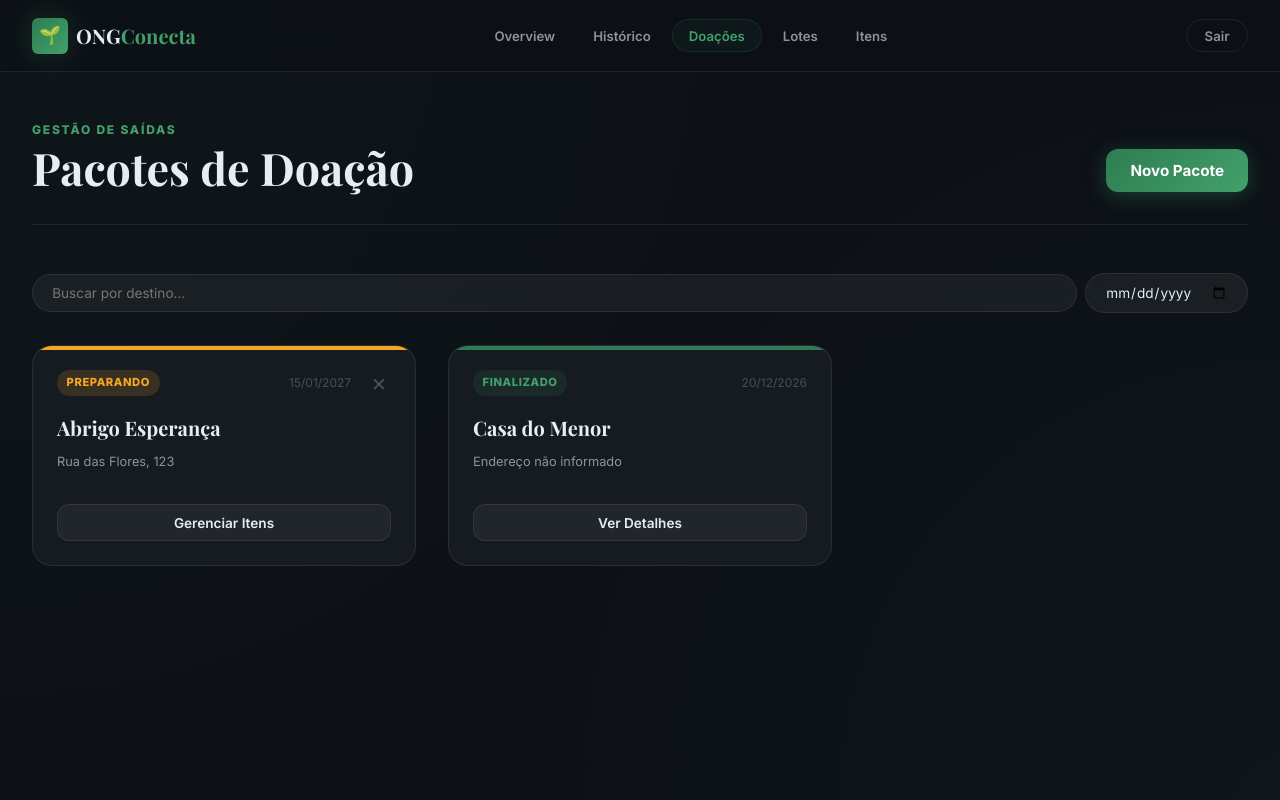
Test: DonationsPage — modal de novo pacote › fecha o modal ao clicar no ×
Expected: the heading "Abrigo Esperança" is shown, [57,414,220,441]
What coordinates should you click on to do the following:
click the button "Novo Pacote"
I would click on:
 (1177, 171)
Its box is [1106,150,1248,192].
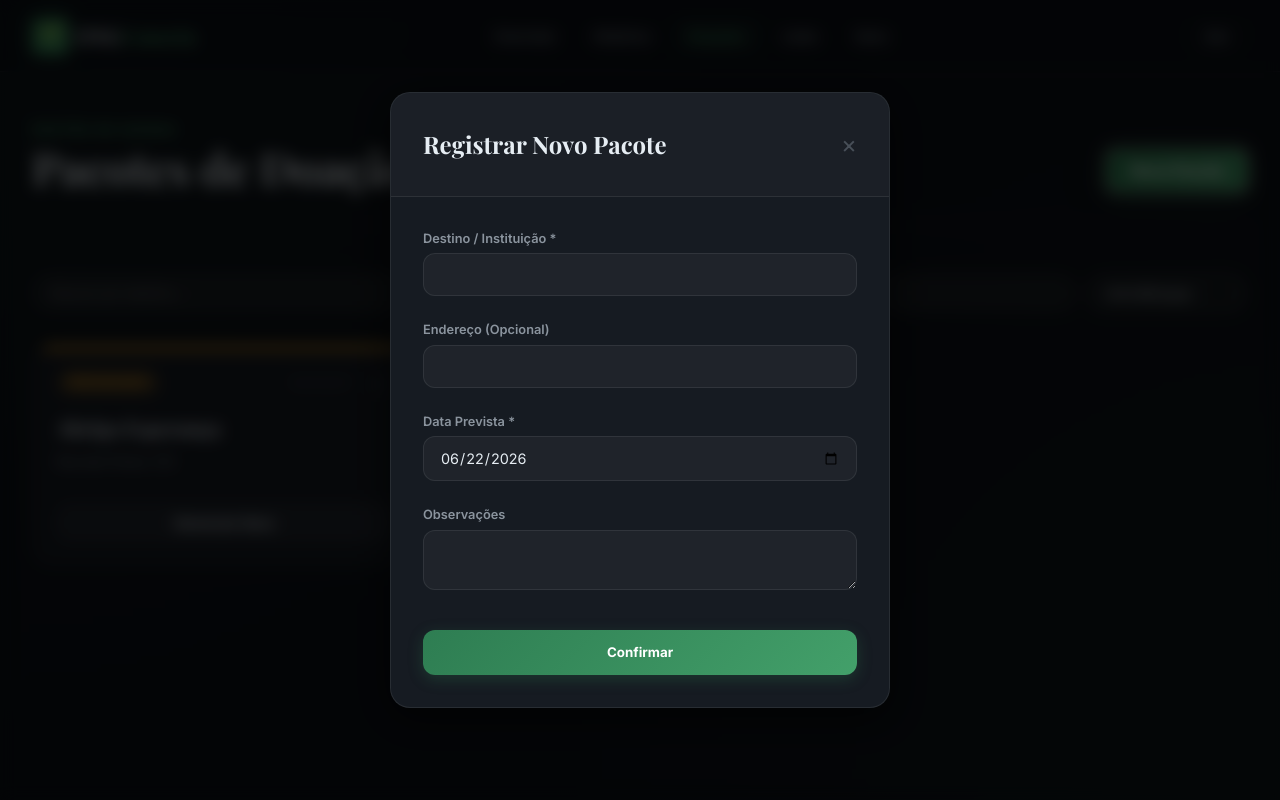
# O modal tem um botão × sem aria-label — acessa pelo texto
What coordinates should you click on to do the following:
click the button with class "donation-modal-content__close"
I would click on:
 (849, 145)
Its box is [841,130,857,159].
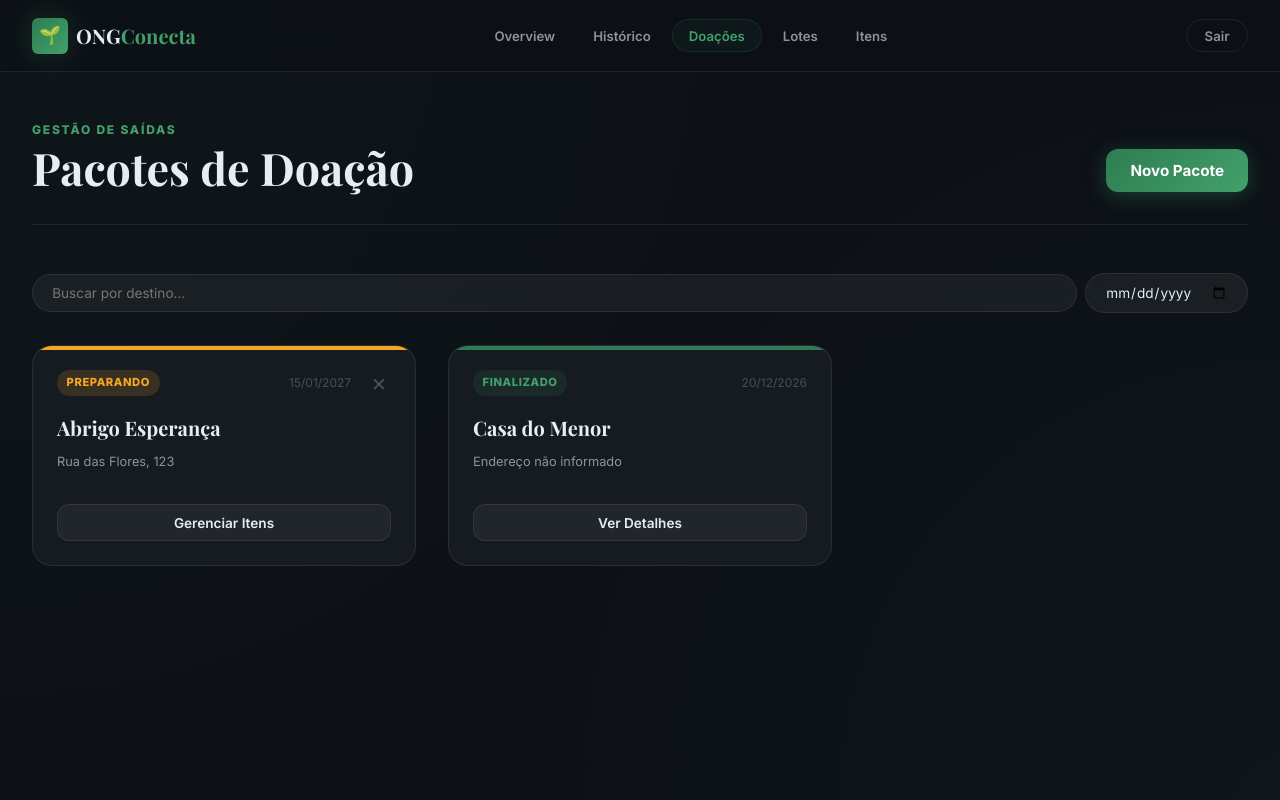
Expected: the heading "Registrar Novo Pacote" is gone
